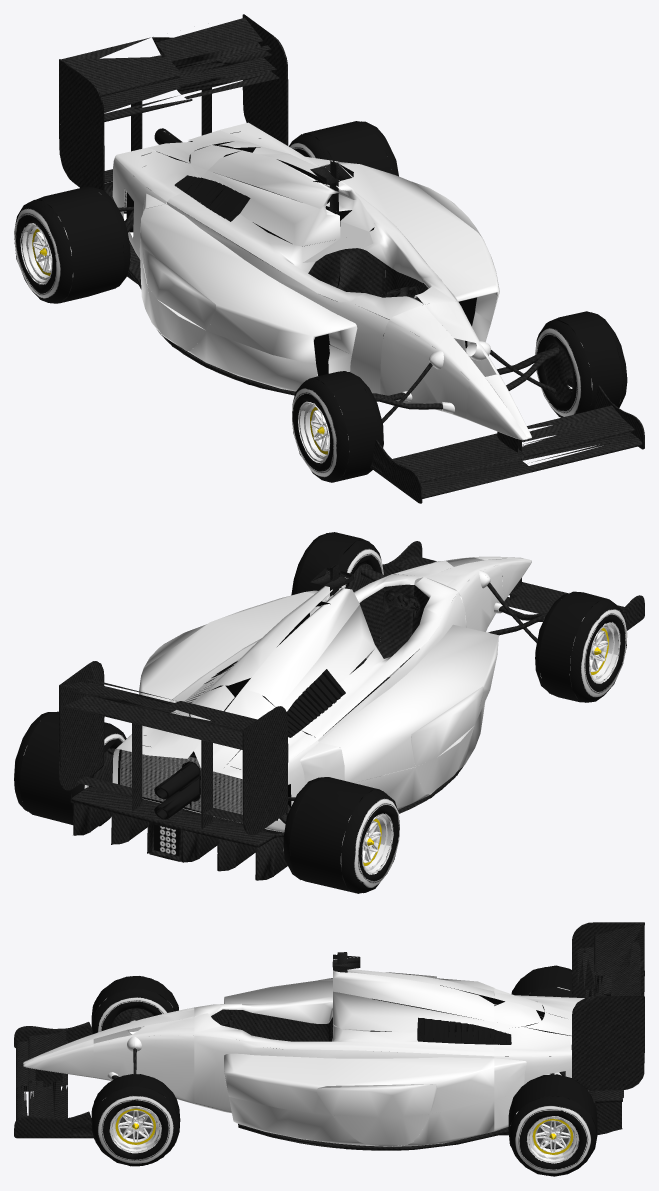
File: car_classic_hi.glb
The picture shows the model from 3 angles, top to bottom: view 1: azimuth 30°, elevation 25°; view 2: azimuth 150°, elevation 25°; view 3: azimuth 270°, elevation 25°; orthographic projection. The views are drawn at different scales.
Visible parts, largest first — view 1: door.R, roof, door.L, WheelRearR, nose.R, WheelFrontR, WheelFrontL, deck, nose.L, fender.R, bonnet, tail.L (+5 smaller); view 2: door.R, roof, door.L, WheelRearR, WheelFrontR, tail.R, tail.L, quarter.R, WheelRearL, deck, quarter.L, WheelFrontL (+4 smaller); view 3: door.L, roof, door.R, WheelRearL, WheelFrontL, nose.L, fender.L, deck, quarter.L, tail.L, WheelFrontR, nose.R (+4 smaller).
Part boxes in pixels (box(x1,y1,x2,y2)): door.R: box(59, 59, 423, 395); roof: box(60, 17, 375, 246); door.L: box(242, 14, 499, 377); WheelRearR: box(14, 186, 130, 303); nose.R: box(345, 377, 531, 503); WheelFrontR: box(292, 371, 383, 482); WheelFrontL: box(535, 311, 627, 417); deck: box(99, 72, 316, 283); nose.L: box(485, 374, 644, 472); fender.R: box(375, 320, 470, 422); bonnet: box(372, 301, 559, 420); tail.L: box(152, 14, 272, 136); door.R: box(244, 564, 498, 813); roof: box(63, 567, 375, 749); door.L: box(58, 563, 423, 749); WheelRearR: box(283, 777, 399, 893); WheelFrontR: box(535, 591, 627, 702); tail.R: box(159, 710, 276, 880); tail.L: box(59, 682, 180, 858); quarter.R: box(163, 740, 344, 875); WheelRearL: box(14, 711, 126, 826); deck: box(87, 692, 317, 829); quarter.L: box(90, 718, 198, 840); WheelFrontL: box(291, 532, 383, 595); door.L: box(194, 952, 644, 1150); roof: box(333, 923, 643, 1033); door.R: box(194, 922, 644, 1048); WheelRearL: box(508, 1074, 597, 1176); WheelFrontL: box(89, 1074, 180, 1166); nose.L: box(14, 1039, 93, 1138); fender.L: box(93, 1035, 194, 1103); deck: box(494, 935, 595, 1133); quarter.L: box(494, 1050, 595, 1138); tail.L: box(595, 960, 644, 1135); WheelFrontR: box(89, 976, 178, 1034); nose.R: box(14, 1022, 93, 1091).
Size of the model in its own units: 2.81 by 1.5 by 5.4.
10 materials, 4 textured.
